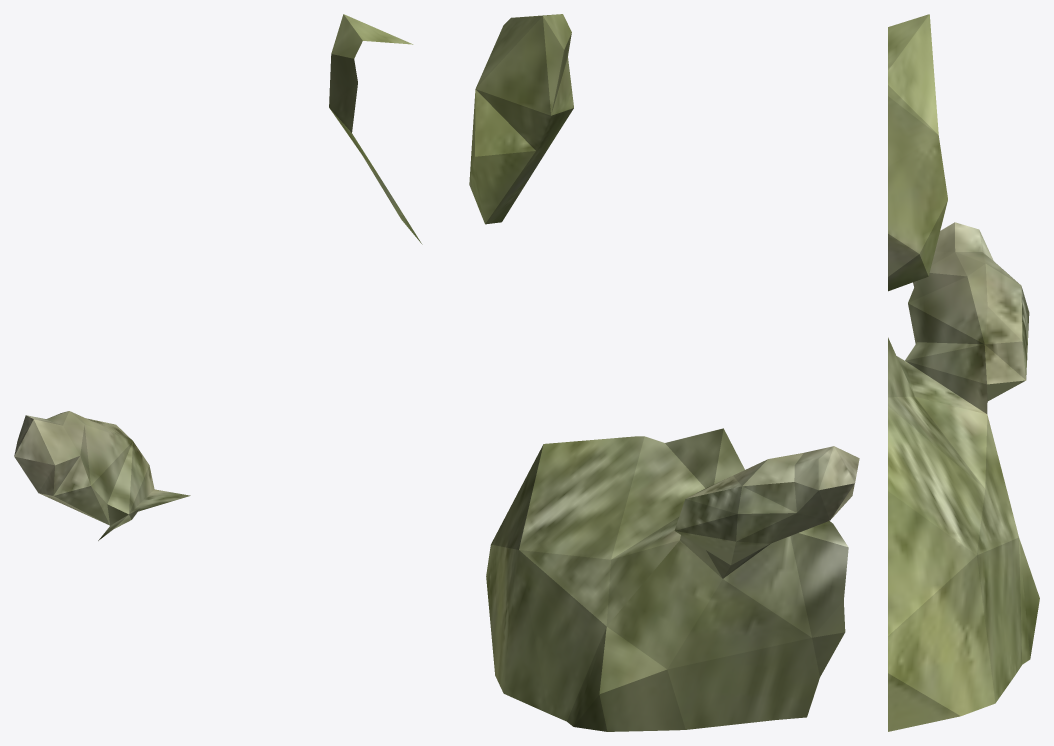
3 renders of one model, left to right at view 1: azimuth 30°, elevation 25°; view 2: azimuth 150°, elevation 25°; view 3: azimuth 270°, elevation 25°, orthographic. The views are drawn at different scales.
Size of the model in its own units: 1.13 by 1.76 by 0.3533.
1 material, 1 textured.
